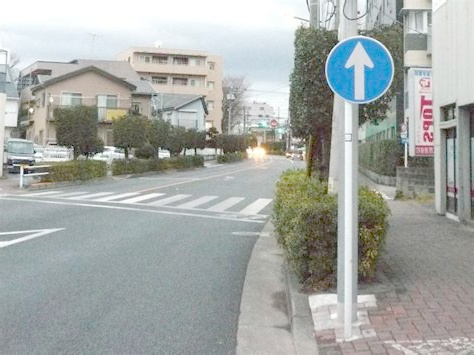Direction_sign: (323, 30, 404, 114)
